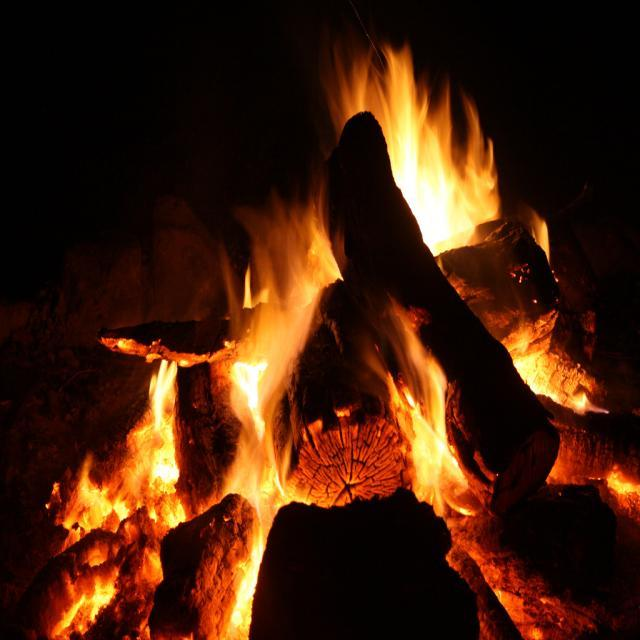Fire: (390, 90, 488, 232), (232, 322, 286, 432), (404, 392, 454, 500), (142, 404, 174, 492)
